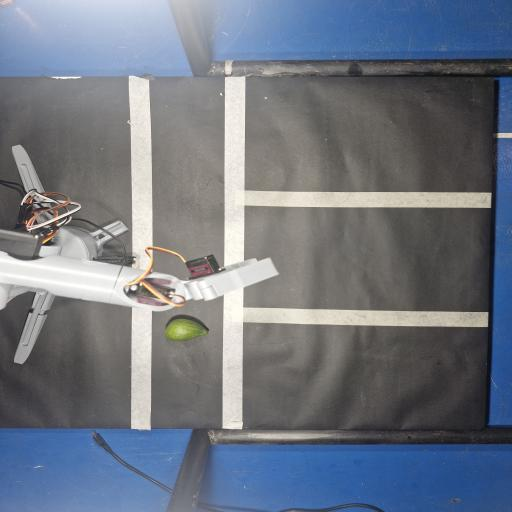higo: (165, 318, 208, 341)
